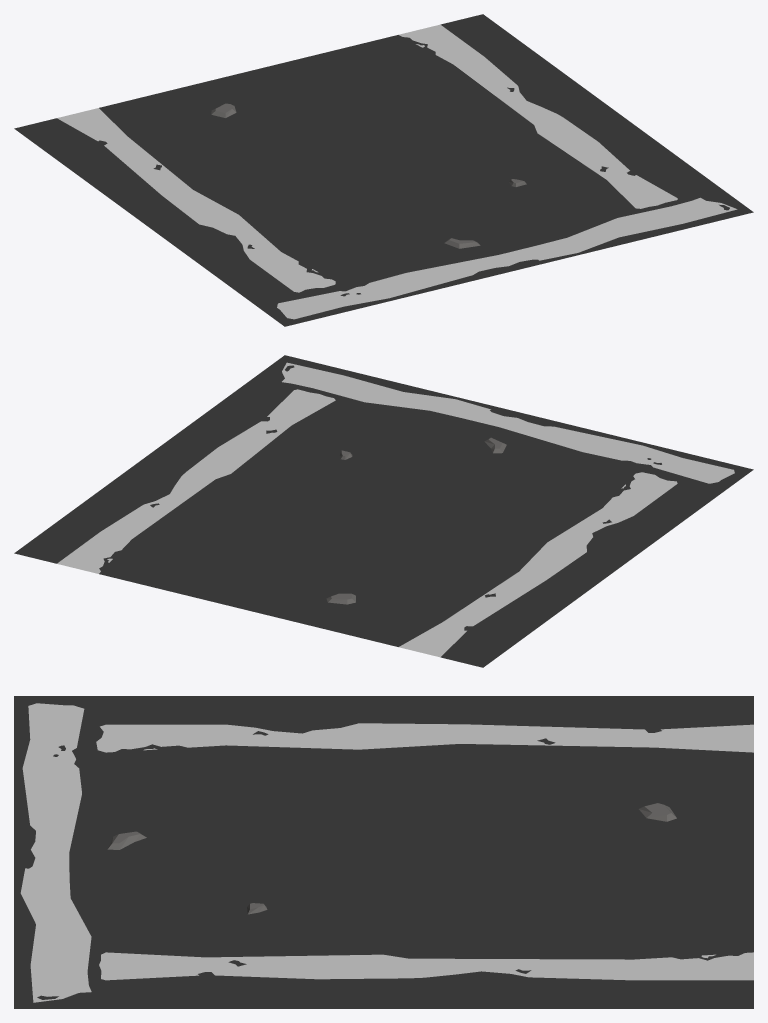
Rendered from Asphalt_07.FBX.
3 views of the same model, one above another, from view 1: azimuth 30°, elevation 25°; view 2: azimuth 150°, elevation 25°; view 3: azimuth 270°, elevation 25° (orthographic). The views are drawn at different scales.
Parts seen in each view (by area): view 1: Asphalt_07; view 2: Asphalt_07; view 3: Asphalt_07.
Boxes of the visible parts, x1=… form: Asphalt_07: x1=14, y1=14, x2=753, y2=326; Asphalt_07: x1=14, y1=355, x2=753, y2=667; Asphalt_07: x1=14, y1=696, x2=753, y2=1008.
Bounding box in the file's own units: 5 × 0.03 × 5.
